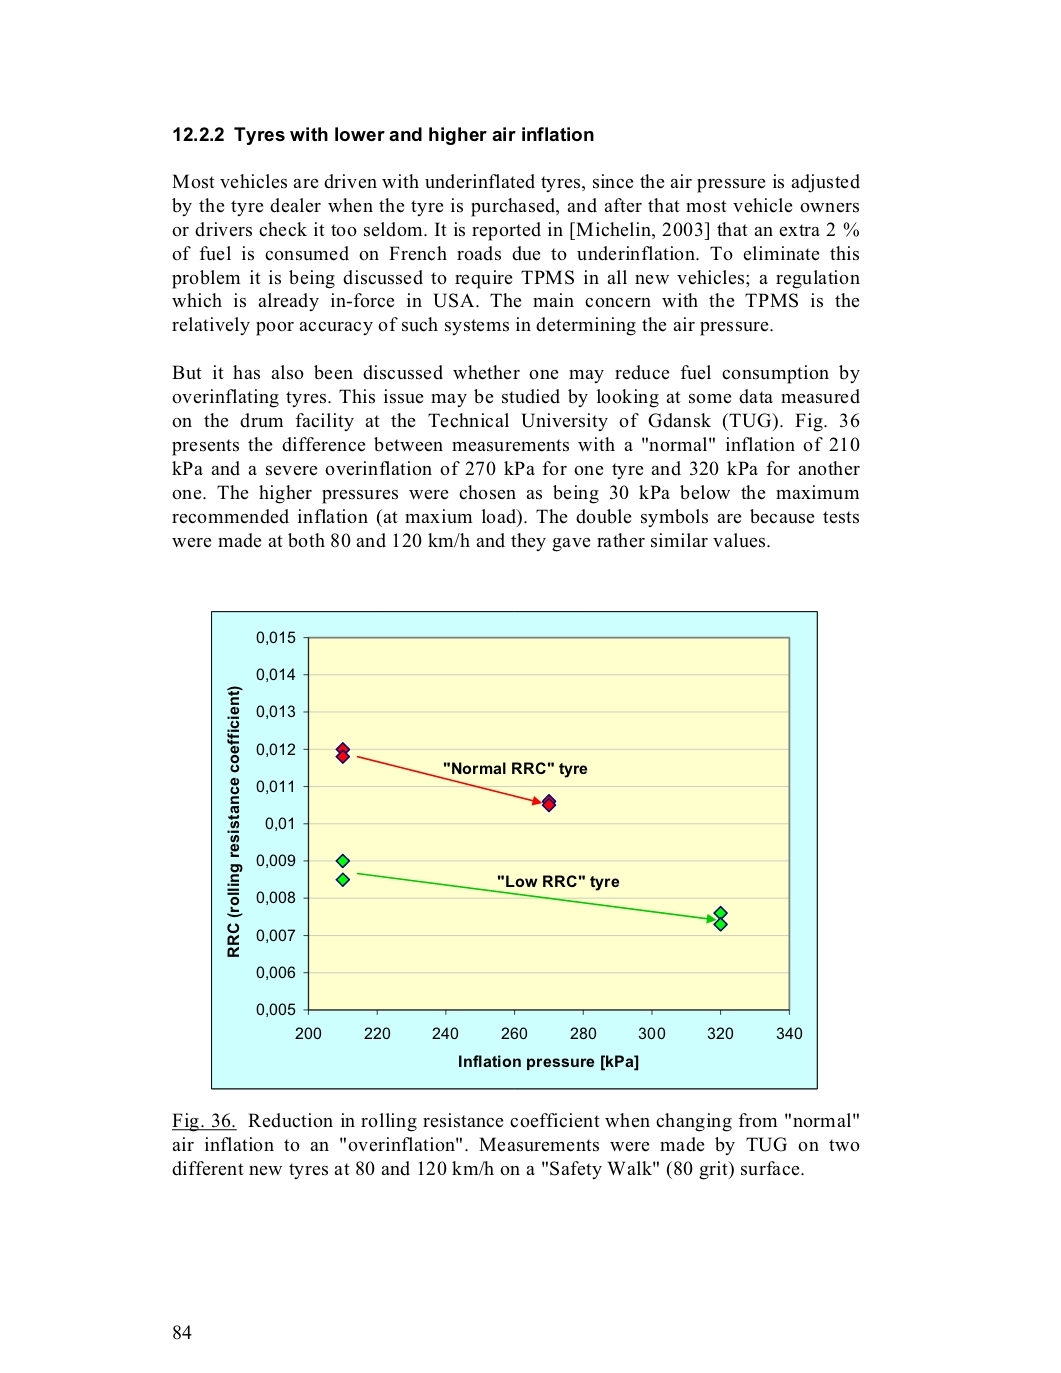figure: (211, 610, 817, 1090)
